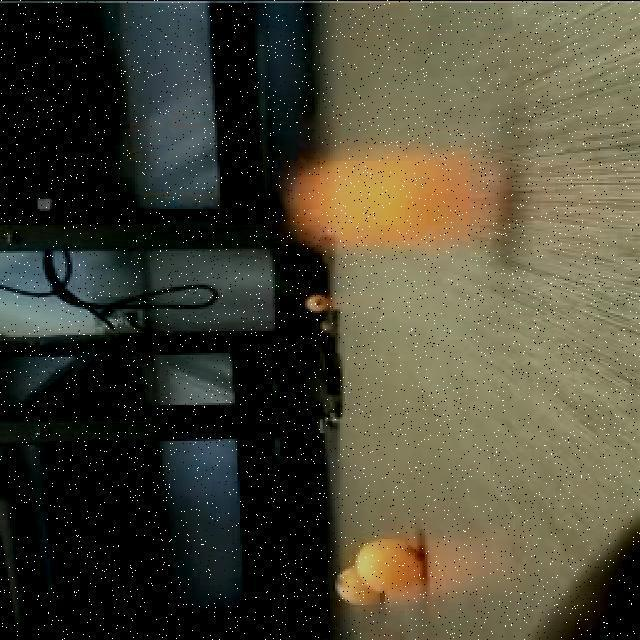ping-pong-ball: (313, 124, 488, 267), (357, 535, 426, 587), (330, 566, 387, 606), (301, 294, 330, 314)
